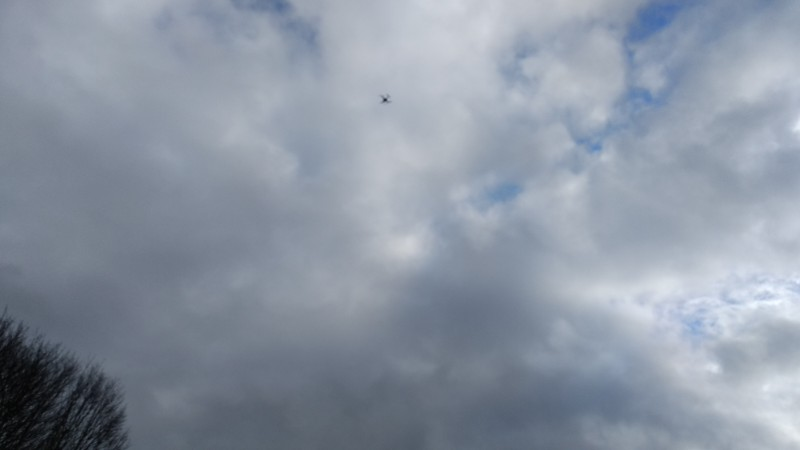drone: (377, 93, 391, 103)
